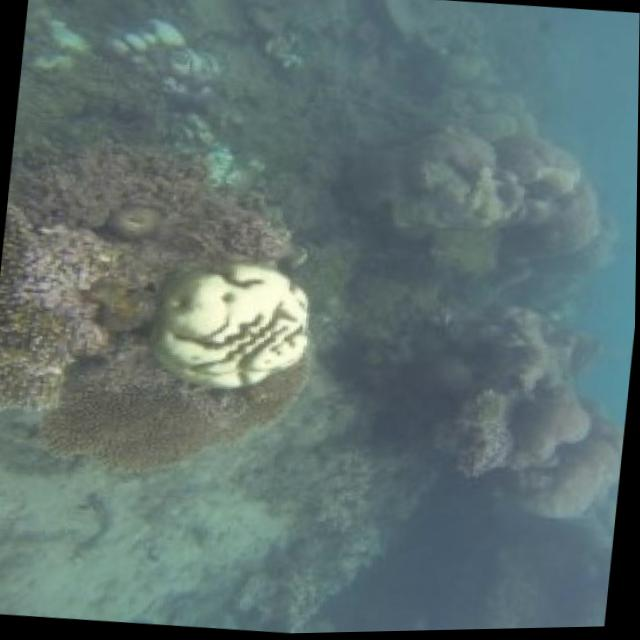Bleached Coral: (141, 251, 333, 398)
